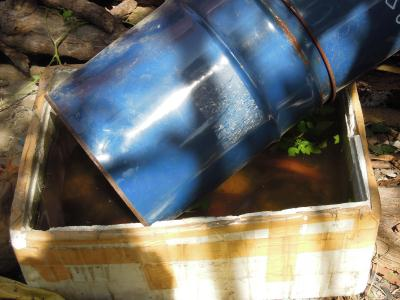bucket: (39, 1, 399, 228)
styrofoam: (6, 63, 385, 298)
